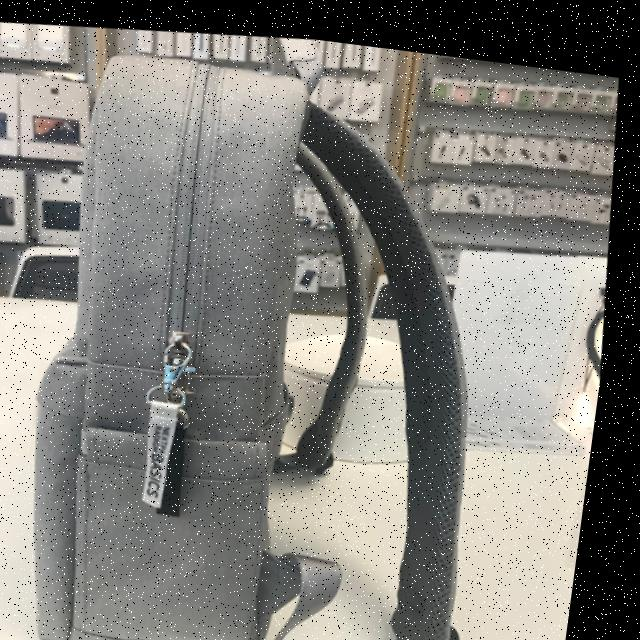backpack: (0, 8, 547, 640)
